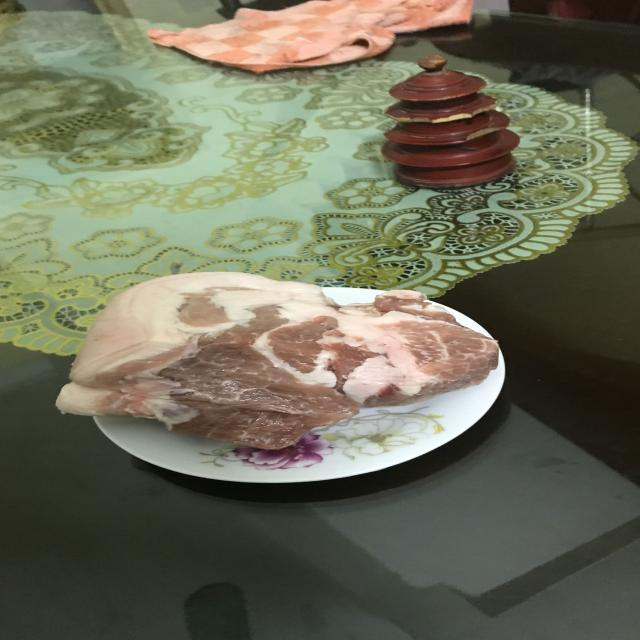chicken: (45, 276, 500, 454)
